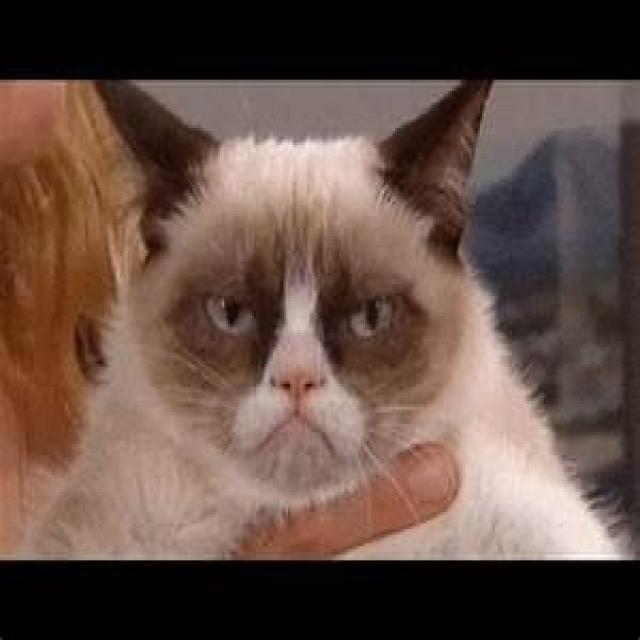KEDI: (3, 74, 640, 564)
